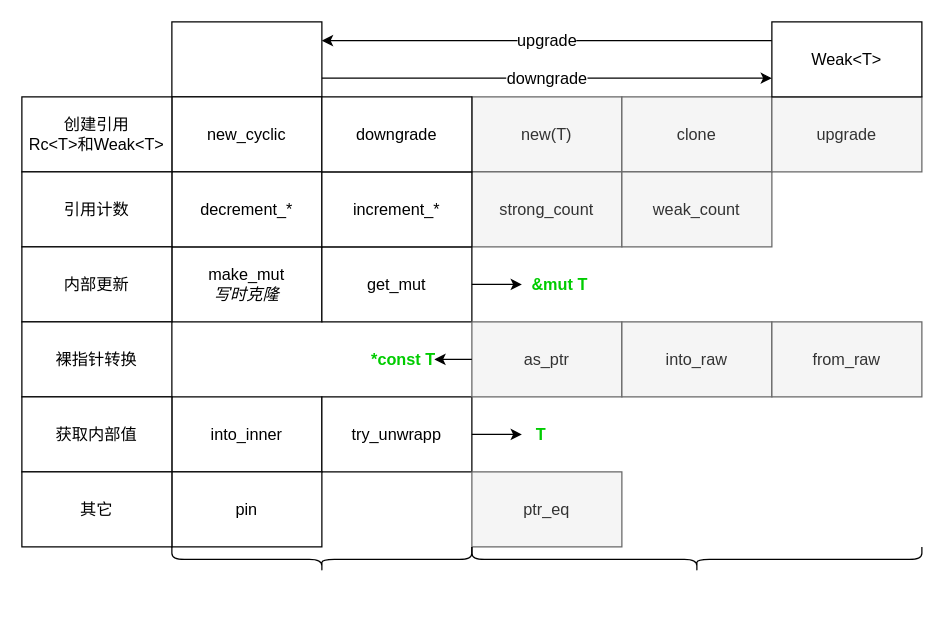
This 944x631 diagram has some shape labels left out. Here are the shapes that lost their labels. From the top down, the centre of each, then its label:
At [246,59]: "Rc<T>".
At [321,559]: "独有方法".
At [696,559]: "共有方法".
